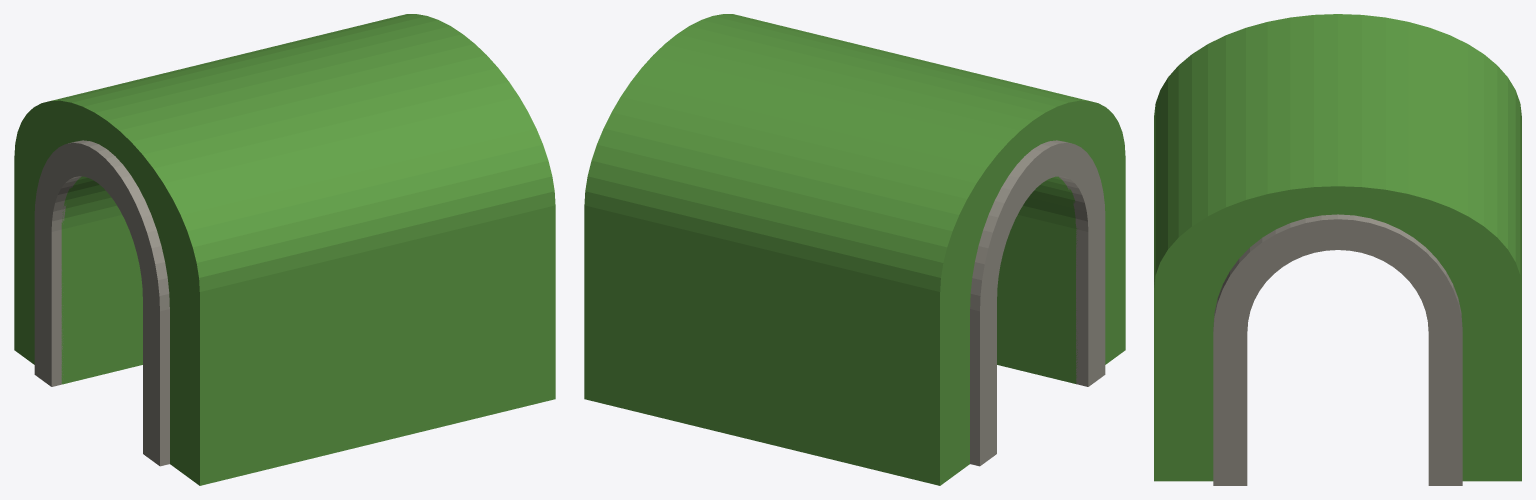
File: tunnel.glb
3 views of the same model, side by side, from view 1: azimuth 30°, elevation 25°; view 2: azimuth 150°, elevation 25°; view 3: azimuth 270°, elevation 25° (orthographic).
Parts seen in each view (by area): view 1: grass, stone; view 2: grass, stone; view 3: grass, stone.
Part boxes in pixels (<box>): grass: <box>14,14,555,485</box>; stone: <box>34,140,169,466</box>; grass: <box>584,14,1125,485</box>; stone: <box>970,140,1105,466</box>; grass: <box>1154,14,1521,481</box>; stone: <box>1213,214,1462,485</box>.
Size of the model in its own units: 152 by 115 by 130.
